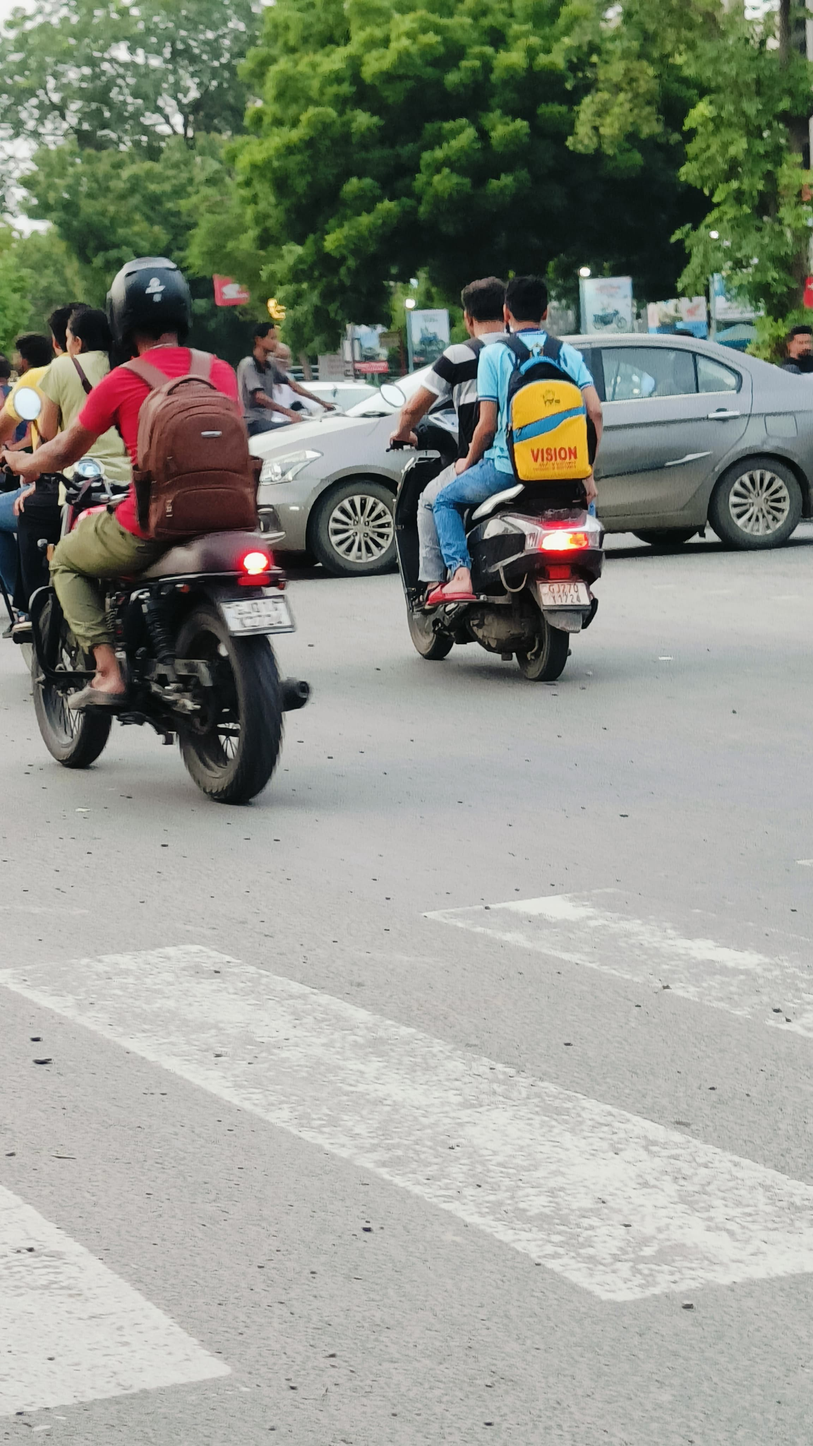BikeWithRider: (4, 244, 324, 815), (376, 264, 617, 690)
Helmet: (98, 247, 204, 358)
NoHelmet: (493, 257, 571, 345), (452, 254, 512, 354), (457, 273, 510, 341), (500, 271, 555, 336)
